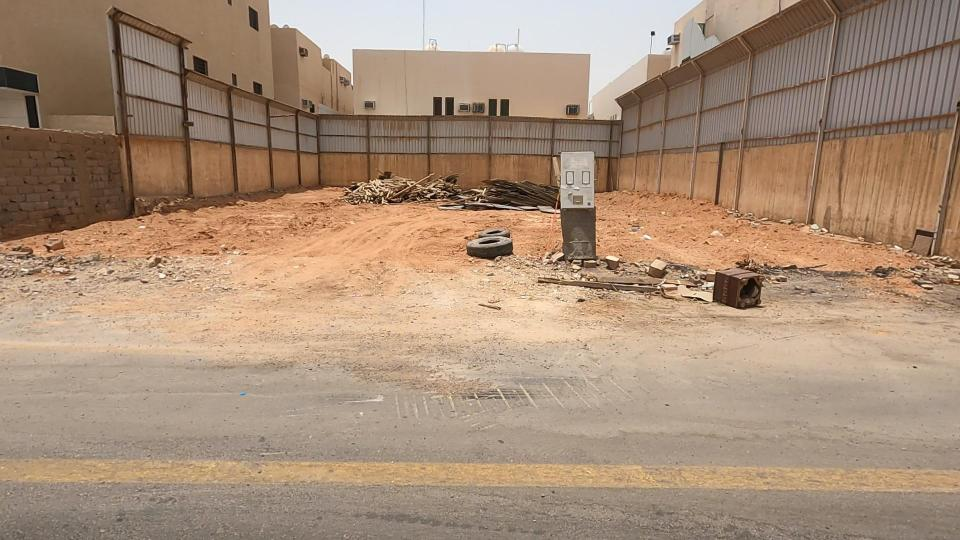GARBAGE: (526, 236, 740, 333), (298, 134, 479, 240), (396, 149, 596, 232), (670, 238, 786, 330), (423, 207, 552, 284), (774, 197, 851, 258)
